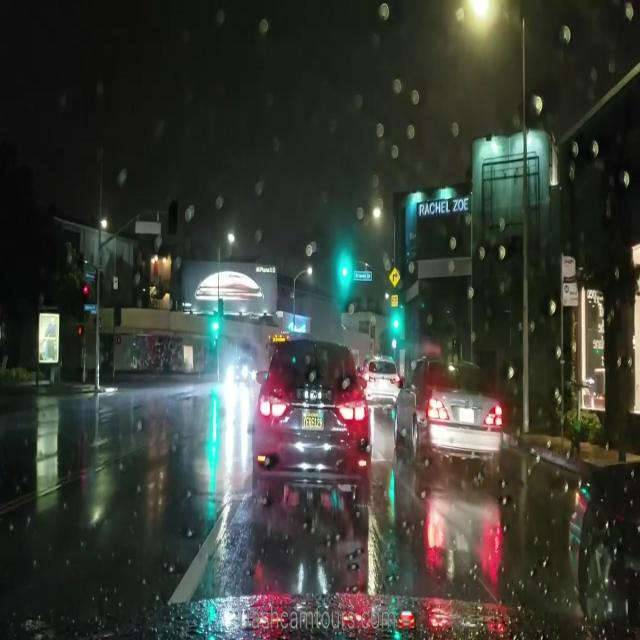Car: (252, 338, 370, 506), (566, 456, 639, 626), (396, 354, 498, 471), (362, 352, 398, 405)
